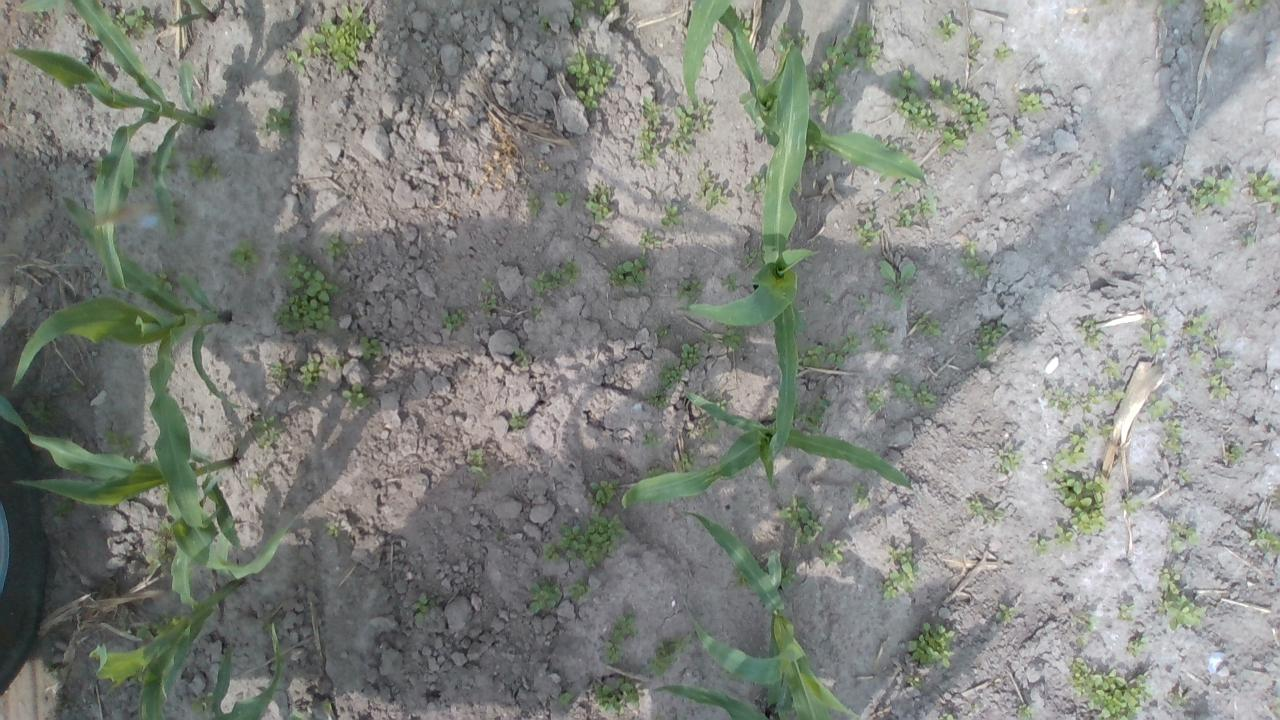Maize: (12, 153, 232, 528), (686, 43, 819, 456), (0, 394, 287, 580), (8, 0, 220, 244), (716, 0, 929, 189), (678, 507, 855, 720), (622, 391, 918, 507), (92, 543, 245, 720), (208, 617, 282, 720), (13, 0, 215, 28), (682, 0, 733, 108), (655, 678, 770, 720)
Weeds: (266, 244, 341, 332), (809, 22, 880, 114), (1044, 463, 1111, 548), (1068, 655, 1152, 720), (302, 3, 378, 71), (541, 511, 625, 569), (1156, 567, 1206, 631), (564, 50, 616, 111), (887, 64, 936, 128), (641, 629, 692, 677), (944, 82, 990, 134), (779, 494, 825, 546), (907, 623, 957, 669), (526, 255, 582, 296), (877, 257, 919, 309), (797, 334, 861, 368), (881, 544, 918, 600), (604, 612, 640, 668), (594, 680, 642, 714), (1192, 175, 1234, 211), (694, 168, 729, 210), (570, 0, 616, 31), (852, 207, 881, 256), (608, 255, 647, 290), (794, 398, 832, 432), (184, 155, 227, 185), (110, 8, 156, 36), (584, 183, 615, 224), (1200, 0, 1236, 35), (976, 322, 1008, 360), (774, 21, 808, 55), (528, 580, 561, 615), (1138, 317, 1170, 353), (228, 236, 259, 273), (670, 105, 694, 152), (252, 413, 284, 448), (960, 240, 988, 280), (1054, 432, 1089, 464), (1246, 172, 1280, 204), (258, 108, 290, 142), (1168, 520, 1200, 554), (590, 478, 620, 511), (868, 316, 894, 354), (102, 426, 136, 454), (636, 127, 658, 168), (297, 352, 322, 388), (1074, 318, 1105, 346), (1204, 370, 1232, 401), (436, 307, 468, 334), (1250, 526, 1280, 554), (820, 539, 849, 567), (44, 497, 74, 524), (941, 124, 966, 156), (656, 359, 684, 387), (342, 382, 371, 409), (915, 311, 943, 338), (1016, 89, 1046, 114), (1162, 421, 1184, 455), (1144, 391, 1168, 421), (890, 372, 915, 400), (934, 13, 958, 41), (640, 96, 662, 126), (26, 399, 52, 424), (722, 325, 746, 352), (678, 342, 702, 369), (144, 538, 166, 567), (744, 167, 768, 193), (913, 382, 937, 408), (998, 448, 1024, 472), (566, 578, 590, 604), (413, 592, 432, 624), (150, 614, 180, 634), (780, 559, 800, 589), (358, 335, 382, 360), (638, 228, 665, 250), (993, 602, 1020, 623), (966, 31, 982, 66), (679, 278, 702, 302), (1184, 314, 1208, 336), (914, 192, 936, 215), (1048, 388, 1072, 409), (866, 385, 886, 410), (851, 480, 870, 506), (287, 49, 306, 74), (1128, 635, 1150, 656), (130, 160, 146, 188), (1242, 0, 1268, 17), (742, 247, 762, 269), (646, 388, 668, 408), (894, 207, 914, 229), (1122, 492, 1144, 512), (267, 360, 289, 380), (326, 236, 346, 258), (553, 190, 577, 208), (698, 103, 714, 130), (153, 270, 174, 290), (930, 77, 945, 105), (732, 568, 752, 589), (680, 448, 697, 472), (661, 205, 680, 226), (1224, 447, 1246, 465), (1104, 357, 1122, 379), (1078, 609, 1095, 632), (1158, 0, 1182, 16), (528, 190, 542, 217), (1008, 124, 1025, 146), (966, 497, 988, 513), (468, 449, 482, 474), (1116, 602, 1135, 620), (719, 272, 736, 292), (1034, 536, 1051, 556), (641, 430, 659, 448), (509, 411, 528, 428), (134, 626, 154, 642), (1085, 384, 1101, 404), (992, 46, 1012, 62), (1102, 389, 1126, 402), (737, 16, 751, 38), (188, 699, 208, 714), (859, 293, 875, 311), (991, 506, 1010, 521), (480, 294, 497, 310), (158, 518, 175, 534), (106, 682, 125, 696), (558, 690, 572, 709), (1016, 704, 1032, 720), (1177, 468, 1192, 485), (46, 664, 67, 676), (1087, 158, 1101, 176), (647, 466, 668, 478), (1240, 233, 1256, 248), (1143, 166, 1163, 178), (244, 474, 259, 490), (656, 325, 674, 338), (1214, 357, 1233, 369), (327, 355, 342, 370), (540, 16, 554, 32), (514, 345, 528, 360), (326, 520, 338, 537), (704, 430, 722, 441), (937, 711, 959, 720), (906, 674, 920, 688), (1190, 350, 1204, 364), (1082, 422, 1095, 437), (1202, 335, 1218, 347), (823, 288, 834, 305), (701, 330, 714, 344), (714, 400, 729, 412), (1101, 422, 1113, 437), (482, 278, 494, 292), (264, 622, 280, 632), (159, 482, 171, 495), (203, 687, 217, 698), (1175, 692, 1186, 705), (1075, 636, 1089, 646), (711, 416, 722, 428), (66, 382, 80, 391), (1098, 222, 1110, 232), (725, 30, 734, 42)
